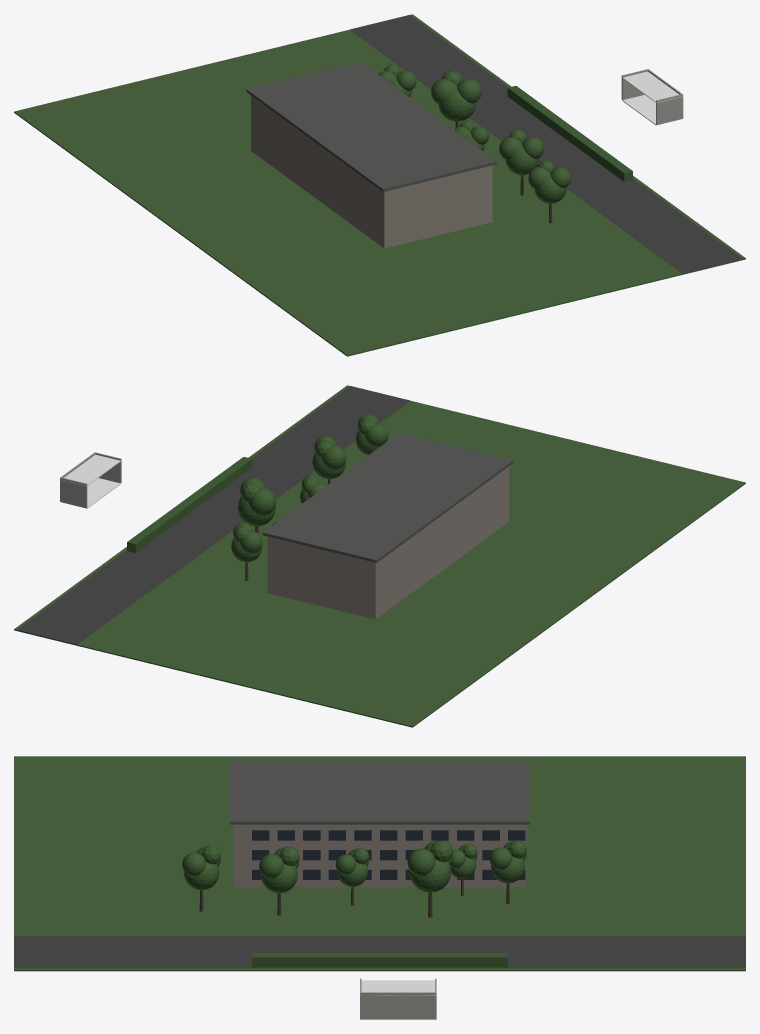
The model's file is KlasElektriciteit_Omgeving.fbx.
3 views of the same model, one above another, from view 1: azimuth 30°, elevation 25°; view 2: azimuth 150°, elevation 25°; view 3: azimuth 270°, elevation 25° (orthographic). The views are drawn at different scales.
Visible parts, largest first — view 1: Ext_Gras, Ext_Gebouw_dak, Ext_Pad, Ext_Gebouw, Ext_Boomkronen, Ext_Haag, Gang_plafond, Gang_zijwand_A; view 2: Ext_Gras, Ext_Pad, Ext_Gebouw_dak, Ext_Gebouw, Ext_Boomkronen, Ext_Haag, Gang_plafond, Gang_zijwand_B; view 3: Ext_Gras, Ext_Pad, Ext_Gebouw_dak, Ext_Gebouw, Ext_Boomkronen, Ext_Gebouw_ramen, Ext_Haag, Gang_achterwand, Gang_plafond, Ext_Boomstammen.
Part boxes in pixels (left/top/right/bottom): Ext_Gras: left=14, top=14, right=745, bottom=356; Ext_Gebouw_dak: left=246, top=61, right=497, bottom=191; Ext_Pad: left=349, top=15, right=742, bottom=273; Ext_Gebouw: left=251, top=95, right=492, bottom=248; Ext_Boomkronen: left=378, top=64, right=571, bottom=203; Ext_Haag: left=507, top=86, right=632, bottom=181; Gang_plafond: left=621, top=71, right=683, bottom=103; Gang_zijwand_A: left=656, top=94, right=683, bottom=124; Ext_Gras: left=14, top=385, right=745, bottom=727; Ext_Pad: left=17, top=386, right=410, bottom=644; Ext_Gebouw_dak: left=262, top=432, right=513, bottom=562; Ext_Gebouw: left=267, top=466, right=508, bottom=619; Ext_Boomkronen: left=231, top=414, right=388, bottom=562; Ext_Haag: left=127, top=457, right=252, bottom=552; Gang_plafond: left=60, top=454, right=121, bottom=486; Gang_zijwand_B: left=60, top=477, right=87, bottom=508; Ext_Gras: left=14, top=756, right=745, bottom=971; Ext_Pad: left=14, top=936, right=745, bottom=967; Ext_Gebouw_dak: left=230, top=760, right=529, bottom=824; Ext_Gebouw: left=233, top=824, right=526, bottom=887; Ext_Boomkronen: left=182, top=840, right=526, bottom=893; Ext_Gebouw_ramen: left=252, top=830, right=525, bottom=879; Ext_Haag: left=252, top=953, right=507, bottom=967; Gang_achterwand: left=361, top=992, right=434, bottom=1019; Gang_plafond: left=360, top=980, right=436, bottom=995; Ext_Boomstammen: left=199, top=879, right=509, bottom=917.
Size of the model in its own units: 6840 by 928 by 8000.
